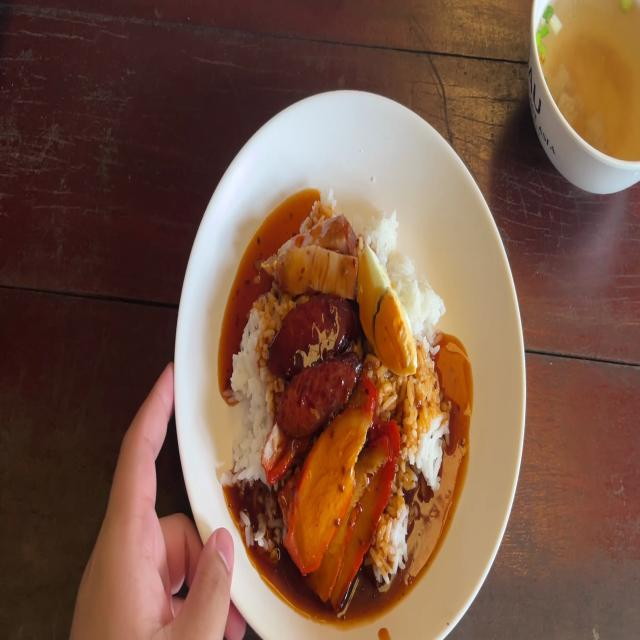01boiled_egg: (362, 251, 417, 375)
01chainese_sausage: (272, 295, 356, 426), (265, 301, 357, 377), (281, 359, 358, 433)
01crispy_pork: (265, 215, 356, 293), (273, 258, 354, 286)
01red_pork: (284, 380, 399, 602), (282, 393, 371, 558), (316, 432, 398, 599), (262, 432, 286, 486)
01red_pork_and_crispy_pork: (232, 196, 444, 590)
01rice: (371, 220, 448, 316), (234, 281, 270, 480), (406, 359, 450, 473), (374, 490, 415, 582)
